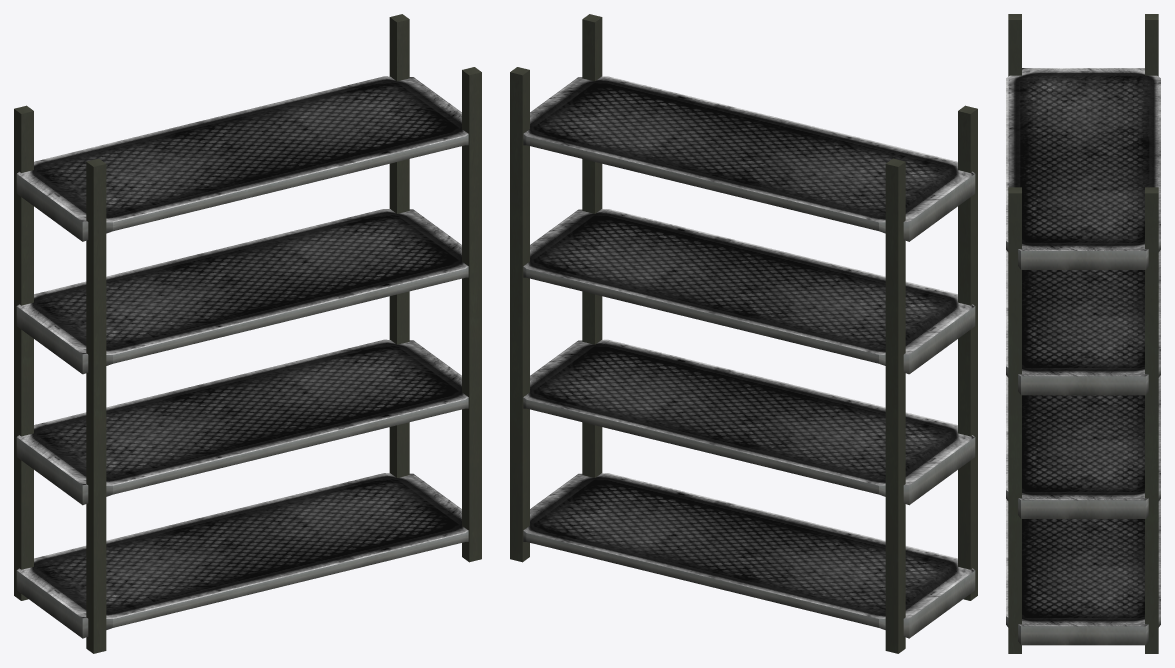
The model's file is Shelf01.fbx.
3 renders of one model, left to right at view 1: azimuth 30°, elevation 25°; view 2: azimuth 150°, elevation 25°; view 3: azimuth 270°, elevation 25°, orthographic. The views are drawn at different scales.
Visible parts, largest first — view 1: Shelf01; view 2: Shelf01; view 3: Shelf01.
Boxes of the visible parts, x1,y1,x2,y2 form: Shelf01: (14,14,481,653); Shelf01: (510,14,977,653); Shelf01: (1006,14,1160,653).
Size of the model in its own units: 190 by 223 by 68.01.
